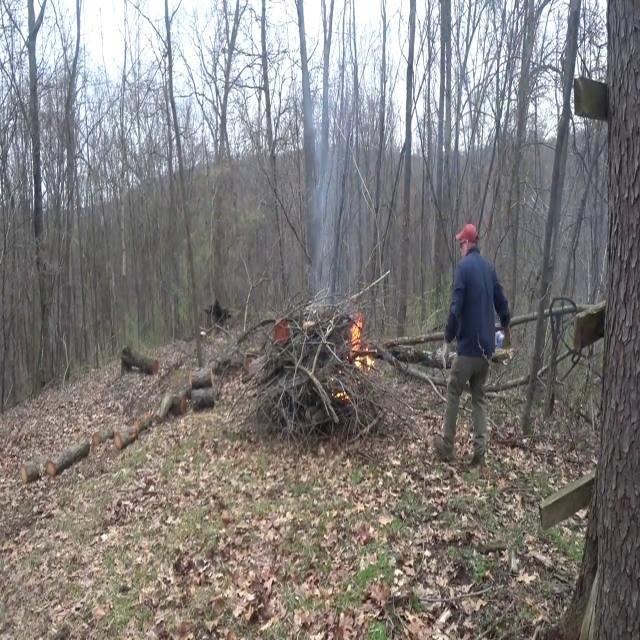Fire: (346, 316, 376, 372)
